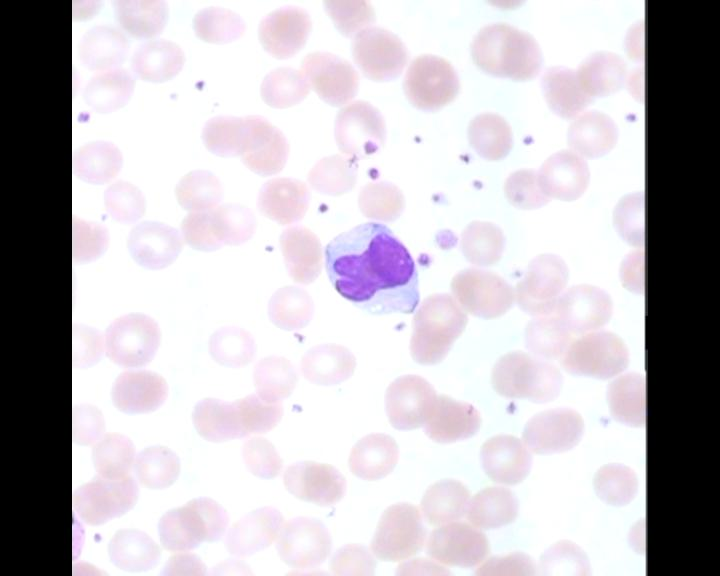mono: (324, 219, 425, 319)
